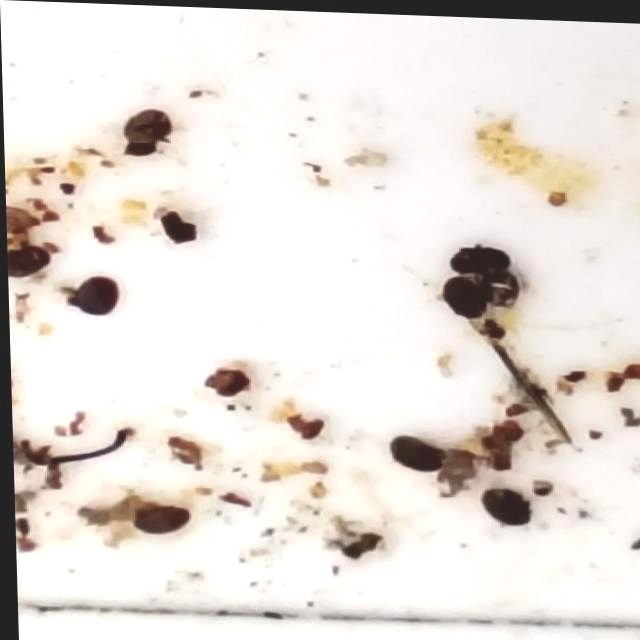varroa: (385, 431, 447, 473), (436, 273, 492, 318), (449, 241, 516, 276), (477, 485, 534, 526), (121, 109, 174, 151), (481, 267, 528, 311), (73, 277, 121, 318), (133, 503, 192, 534), (7, 241, 54, 279)
